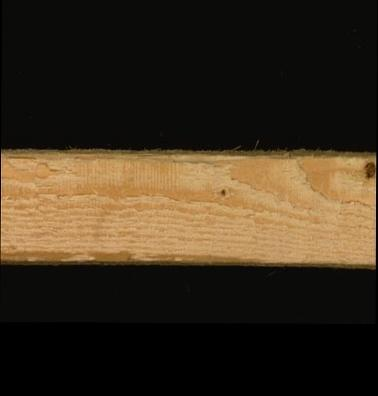dry_knot: (360, 157, 376, 179)
small_knot: (217, 184, 230, 197)
wave: (0, 248, 267, 266), (3, 147, 278, 159)
